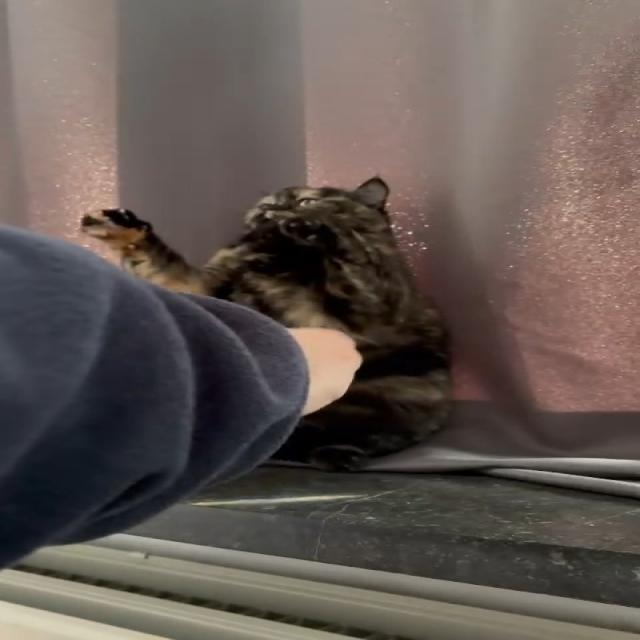authorized: (77, 175, 455, 472)
